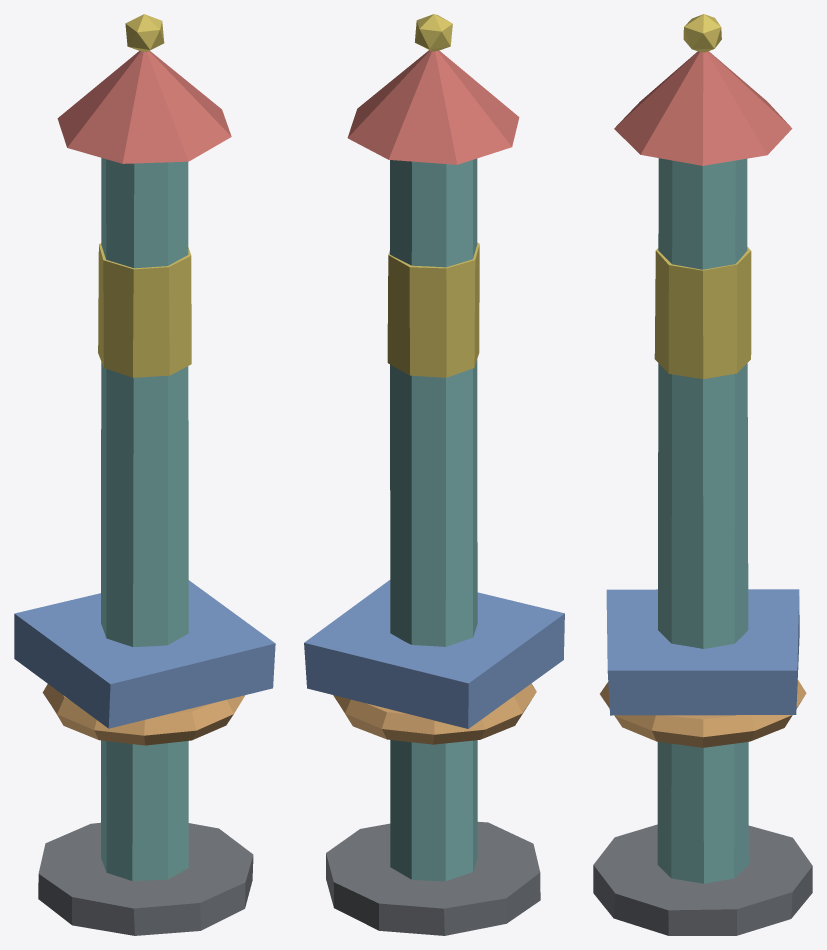
The model's file is launchedfreefall.fbx.
The picture shows the model from 3 angles, left to right: view 1: azimuth 30°, elevation 25°; view 2: azimuth 150°, elevation 25°; view 3: azimuth 270°, elevation 25°; orthographic projection.
Visible parts, largest first — view 1: LaunchedFreefall; view 2: LaunchedFreefall; view 3: LaunchedFreefall.
Part boxes in pixels (bbox=[...]): LaunchedFreefall: bbox=[14, 14, 275, 935]; LaunchedFreefall: bbox=[304, 14, 564, 935]; LaunchedFreefall: bbox=[593, 14, 812, 935].
Bounding box in the file's own units: 2.1 × 9.72 × 2.2.
